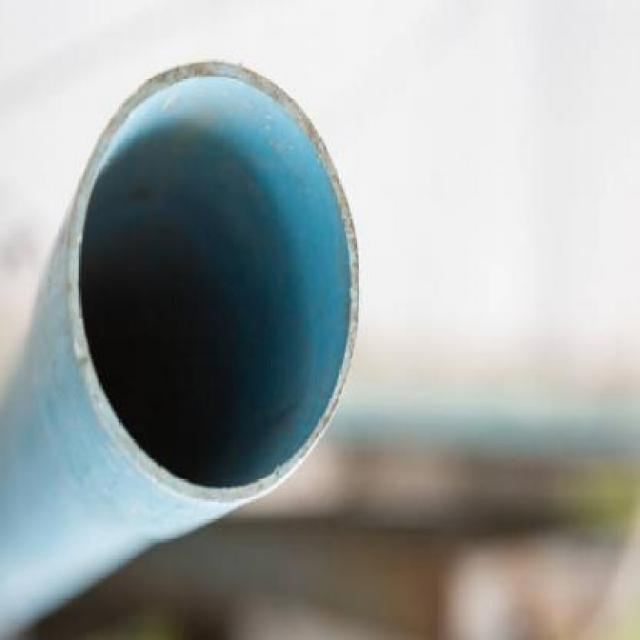pipe: (69, 60, 360, 502)
